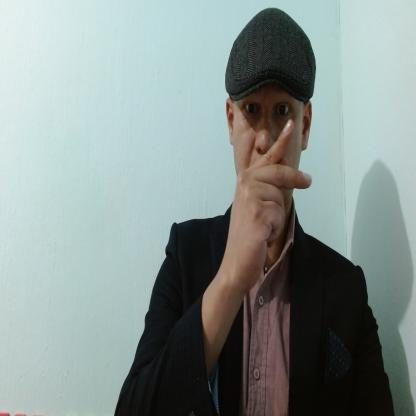P: (226, 117, 313, 290)
